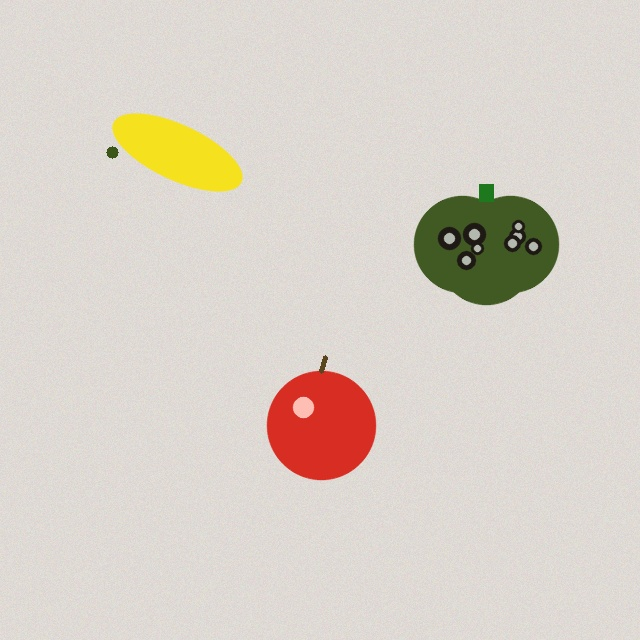Fresh apple: (267, 357, 375, 479)
Fresh banana: (104, 119, 250, 185)
Rotten bell pepper: (414, 184, 558, 304)
